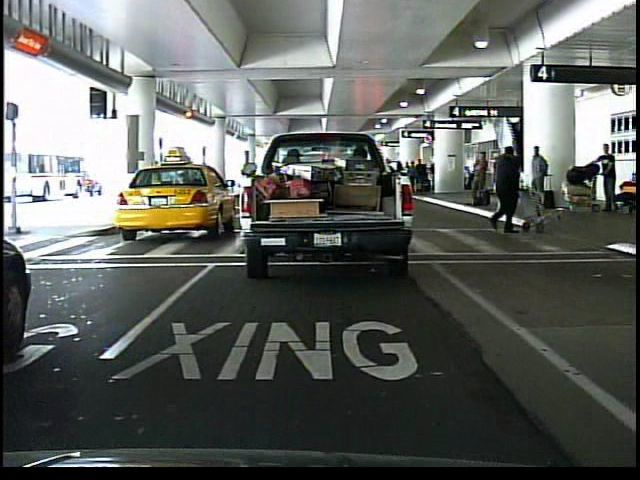person: (487, 145, 529, 237), (593, 139, 623, 216), (492, 146, 513, 224)
